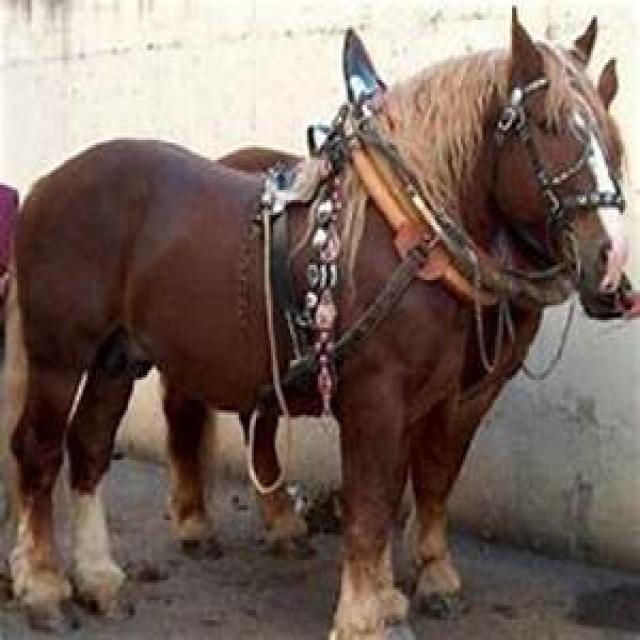animal: (29, 7, 625, 640)
